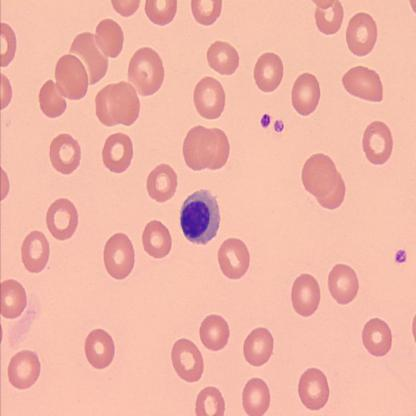NRC: (178, 188, 222, 247)
